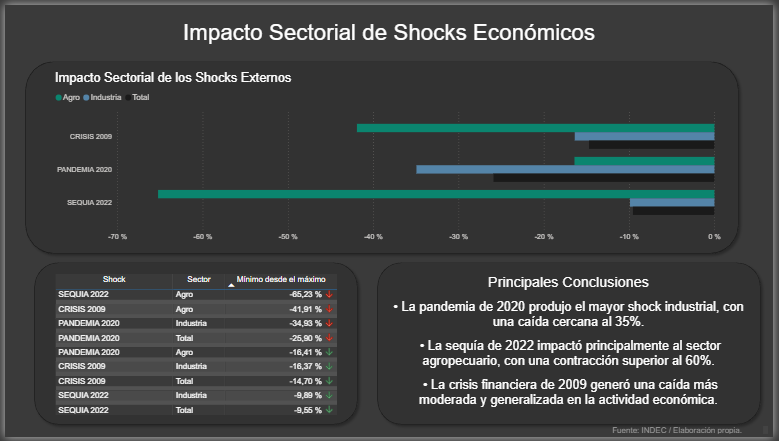

Layout of this report page (visuals, bound fields, positions):
{"tool":"powerbi","page":{"name":"Pág 2 - Impacto","canvas":[1280,720],"ordinal":1},"visuals":[{"type":"group","id":"g1","title":"Fondo","box":[25.2,84.4,1243,623.4],"z":0},{"type":"textbox","box":[193.2,20.2,893.6,68.9],"z":1000},{"type":"clusteredBarChart","title":"Impacto Sectorial de los Shocks Externos","fields":{"Category":["pagina2_shocks.shock"],"Series":["pagina2_shocks.sector"],"Y":["Sum(pagina2_shocks.caida_pico_valle_corregida)"]},"box":[78.3,110,1120,291.7],"z":2000},{"type":"tableEx","title":"Impacto Sectorial de los Shocks Externos","fields":{"Values":["pagina2_shocks.shock","pagina2_shocks.sector","Sum(pagina2_shocks.caida_pico_valle_corregida)"]},"box":[78.3,443.3,488.3,245],"z":3000},{"type":"shape","box":[40,419.5,556.7,288.3],"z":4000,"group":"g1"},{"type":"textbox","box":[638.3,443.3,601.7,245],"z":4000},{"type":"shape","box":[611.6,418.8,656.7,288.3],"z":5000,"group":"g1"},{"type":"textbox","box":[971.7,696.7,305,23.3],"z":5000},{"type":"shape","box":[25.2,84.4,1206.7,338.3],"z":6000,"group":"g1"}]}

Visuals, with their boxes in screenshot pixels (x1, y1, x2, y2), scaled from the page's 1280x720 canvas onto the 779x441 screenshot:
"Fondo" group: locate(15, 52, 772, 434)
textbox: locate(118, 12, 661, 55)
"Impacto Sectorial de los Shocks Externos" clusteredBarChart: locate(48, 67, 729, 246)
"Impacto Sectorial de los Shocks Externos" tableEx: locate(48, 272, 345, 422)
shape: locate(24, 257, 363, 434)
textbox: locate(388, 272, 755, 422)
shape: locate(372, 257, 772, 433)
textbox: locate(591, 427, 777, 440)
shape: locate(15, 52, 750, 259)
